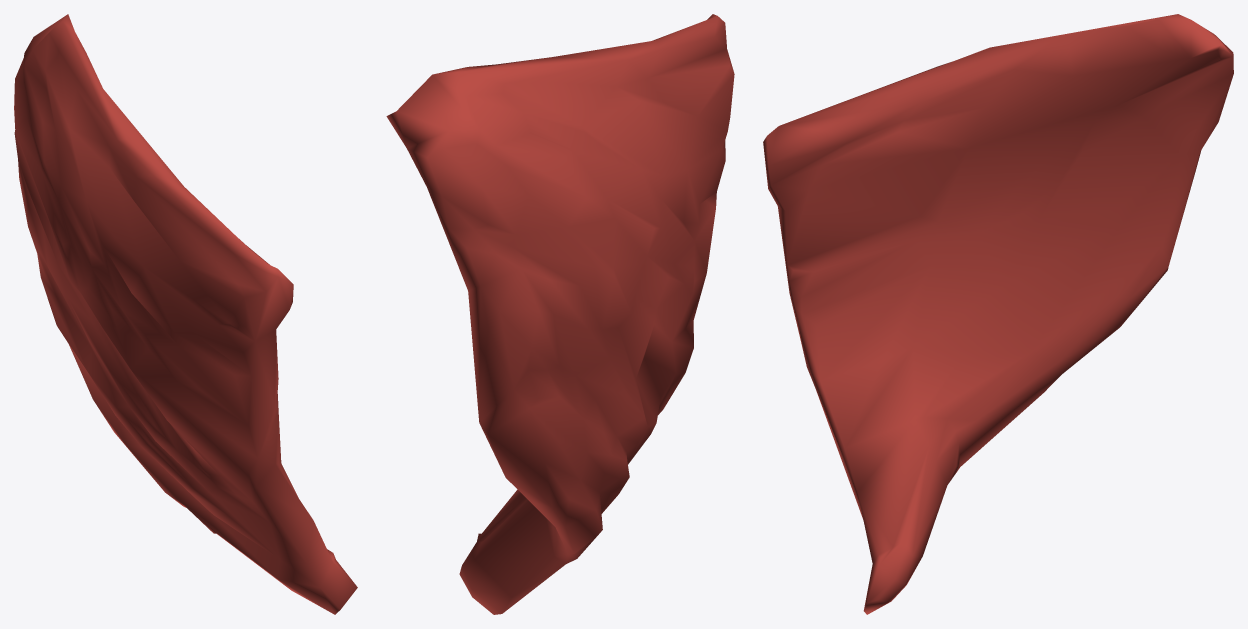
The model's file is musculos-bucinator-r.glb.
3 renders of one model, left to right at view 1: azimuth 30°, elevation 25°; view 2: azimuth 150°, elevation 25°; view 3: azimuth 270°, elevation 25°, orthographic. The views are drawn at different scales.
Parts seen in each view (by area): view 1: Bucinator.r; view 2: Bucinator.r; view 3: Bucinator.r.
Boxes of the visible parts, x1=… form: Bucinator.r: x1=14, y1=14, x2=357, y2=614; Bucinator.r: x1=386, y1=14, x2=734, y2=614; Bucinator.r: x1=763, y1=14, x2=1233, y2=614.
Bounding box in the file's own units: 0.015 × 0.0363 × 0.0288.
